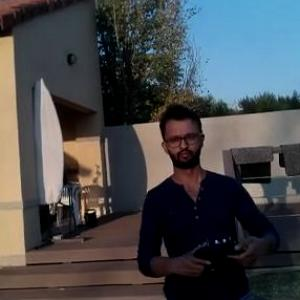follow: (132, 91, 288, 299)
